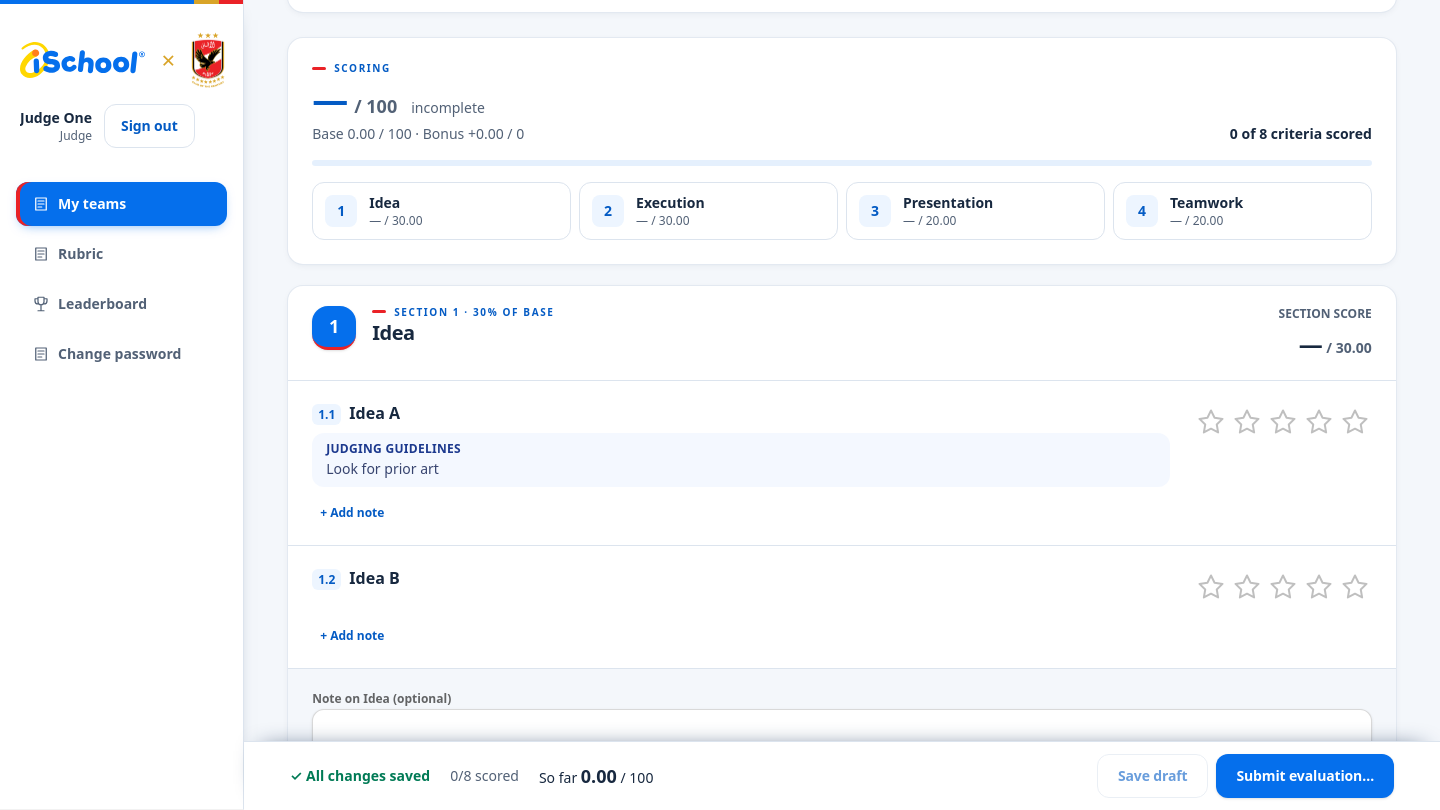
Test: Evaluation page › stops on a conflict with another tab and lets the judge choose
(page scrolled)
Step 1. Click the radio button named "1 star" in the row of "1.1" → (1211, 422), box [1194,405,1228,439]
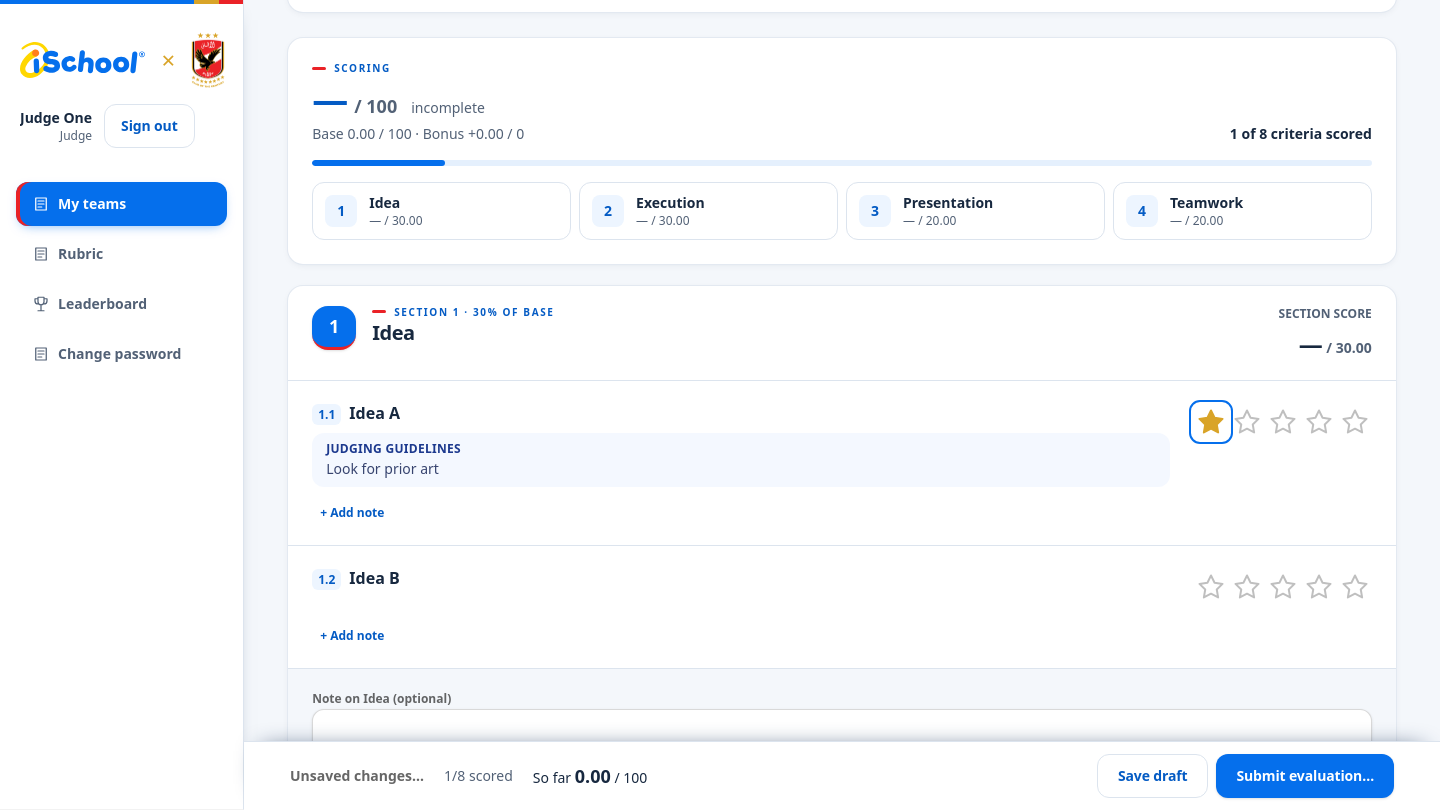
Step 2. Click the button "Save draft" → (1153, 776), box [1097,754,1208,798]
(page scrolled)
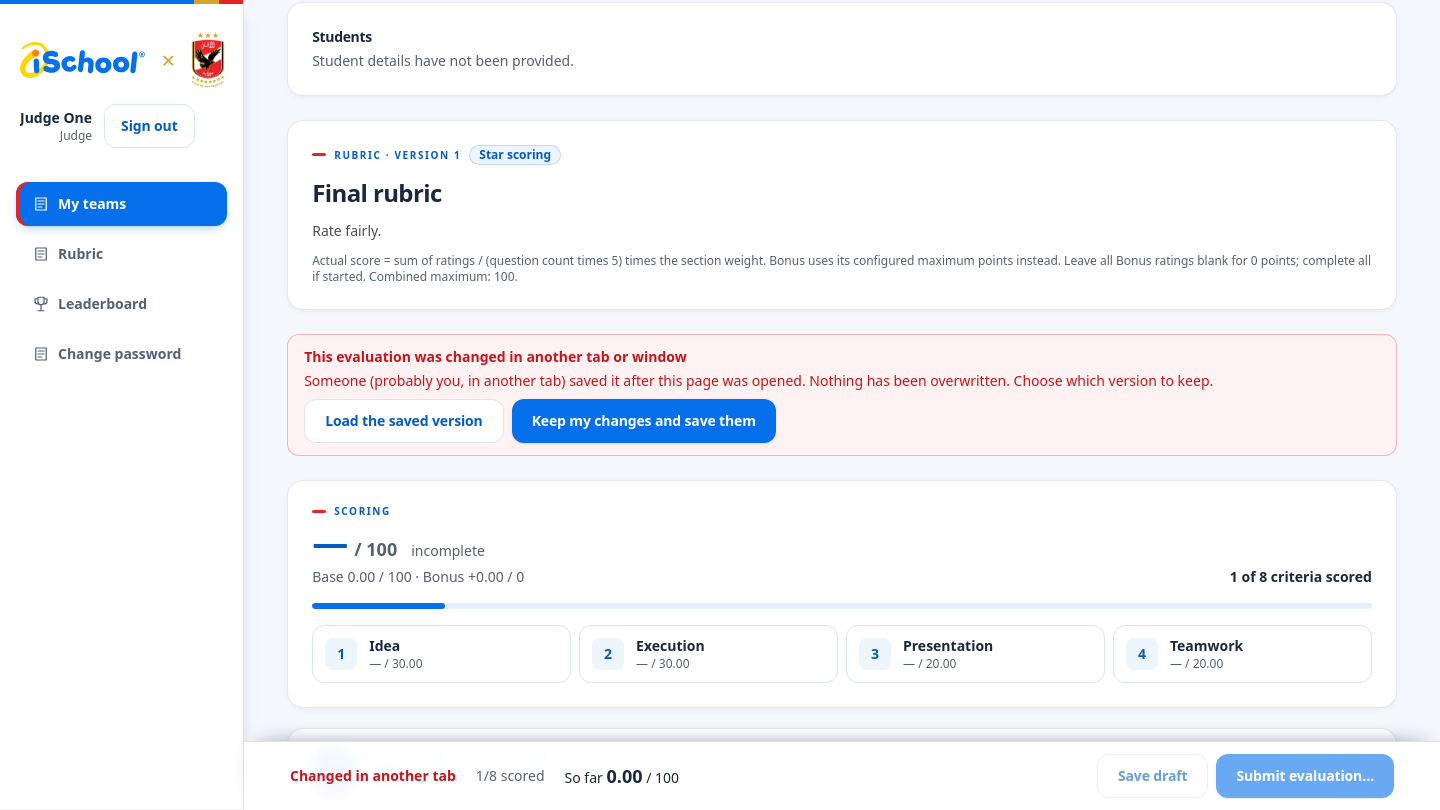
Expected: the text "This evaluation was changed in another tab or window" is shown, [304,347,687,366]
Step 3. Click the button "Load the saved version" → (404, 421), box [304,399,504,443]
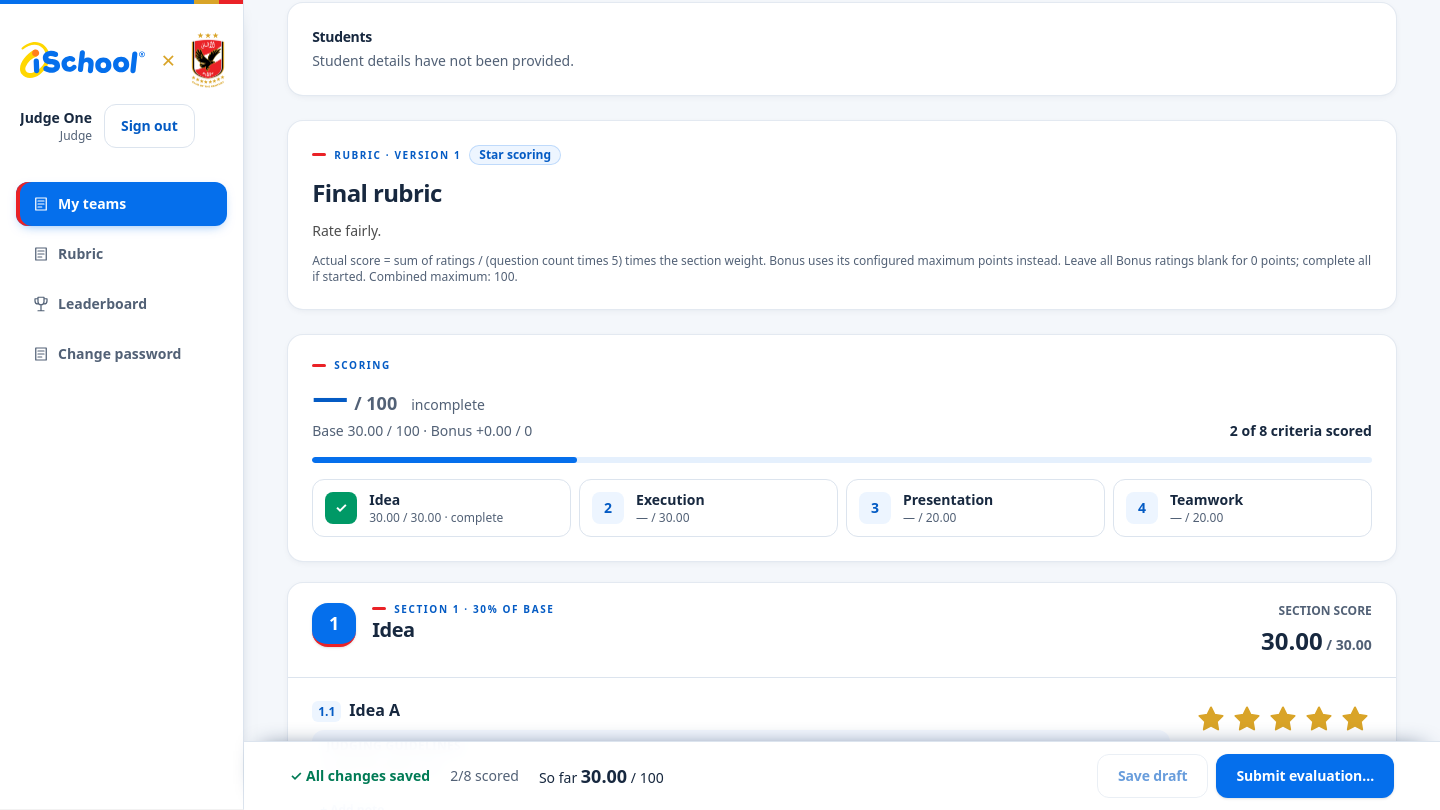
Expected: the text "✓ All changes saved" is shown, [290,766,430,786]
